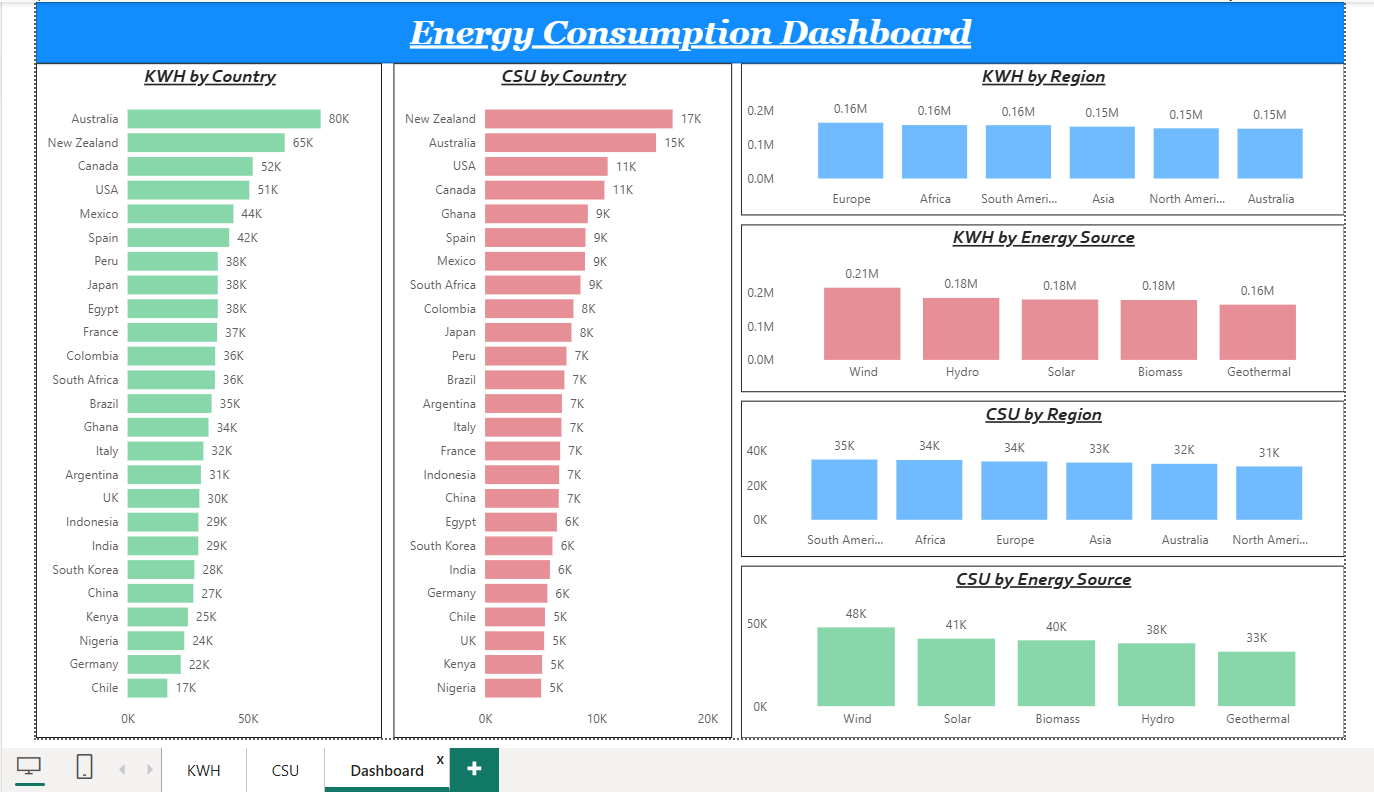

Layout of this report page (visuals, bound fields, positions):
{"tool":"powerbi","page":{"name":"Dashboard","canvas":[1280,720],"ordinal":2},"visuals":[{"type":"columnChart","title":"KWH by Region","fields":{"Category":["ENERGY_CONSUMPTION.REGION"],"Y":["Sum(ENERGY_CONSUMPTION.MONTHLY_USAGE_KWH)"]},"box":[689.7,59.9,590.6,149.2],"z":0},{"type":"shape","box":[0,0,1280.3,59.9],"z":1},{"type":"barChart","title":"KWH by Country","fields":{"Y":["Sum(ENERGY_CONSUMPTION.MONTHLY_USAGE_KWH)"],"Category":["ENERGY_CONSUMPTION.COUNTRY"]},"box":[0,59.9,338.7,660.3],"z":2},{"type":"barChart","title":"CSU by Country","fields":{"Y":["Sum(ENERGY_CONSUMPTION.COST_SAVINGS_USD)"],"Category":["ENERGY_CONSUMPTION.COUNTRY"]},"box":[349.7,59.9,331.4,660.3],"z":3},{"type":"columnChart","title":"KWH by Energy Source","fields":{"Category":["ENERGY_CONSUMPTION.ENERGY_SOURCE"],"Y":["Sum(ENERGY_CONSUMPTION.MONTHLY_USAGE_KWH)"]},"box":[689.7,217.7,590.6,163.9],"z":4},{"type":"columnChart","title":"CSU by Region","fields":{"Category":["ENERGY_CONSUMPTION.REGION"],"Y":["Sum(ENERGY_CONSUMPTION.COST_SAVINGS_USD)"]},"box":[689.7,390.1,590.6,152.9],"z":5},{"type":"columnChart","title":"CSU by Energy Source","fields":{"Y":["Sum(ENERGY_CONSUMPTION.COST_SAVINGS_USD)"],"Category":["ENERGY_CONSUMPTION.ENERGY_SOURCE"]},"box":[689.7,551.5,590.6,168.8],"z":6}]}

Visuals, with their boxes in screenshot pixels (x1, y1, x2, y2):
"KWH by Region" columnChart: select_region(736, 61, 1339, 214)
shape: select_region(32, 0, 1339, 61)
"KWH by Country" barChart: select_region(32, 61, 378, 735)
"CSU by Country" barChart: select_region(389, 61, 728, 735)
"KWH by Energy Source" columnChart: select_region(736, 222, 1339, 390)
"CSU by Region" columnChart: select_region(736, 398, 1339, 554)
"CSU by Energy Source" columnChart: select_region(736, 563, 1339, 735)
